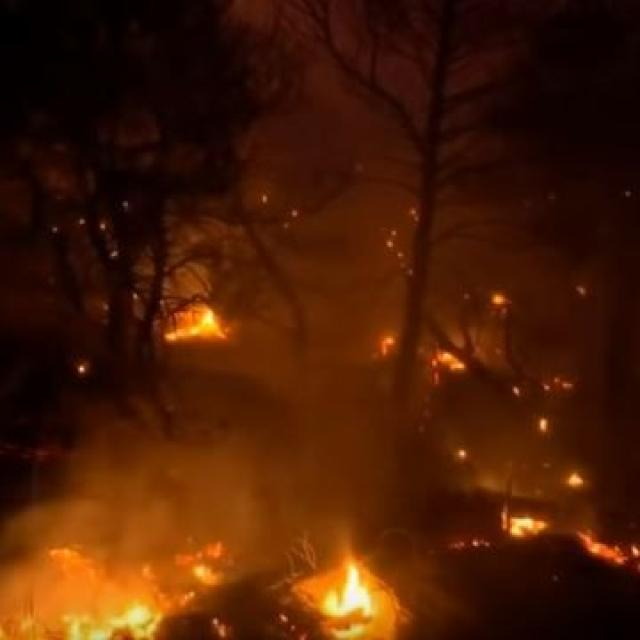Fire: (37, 538, 232, 640), (323, 564, 378, 638), (170, 297, 232, 349), (494, 494, 546, 549), (578, 525, 635, 570), (424, 344, 476, 388), (532, 361, 580, 399), (372, 332, 408, 366), (554, 462, 590, 486), (485, 288, 514, 309), (535, 407, 554, 435)
Smoke: (82, 4, 550, 567)
